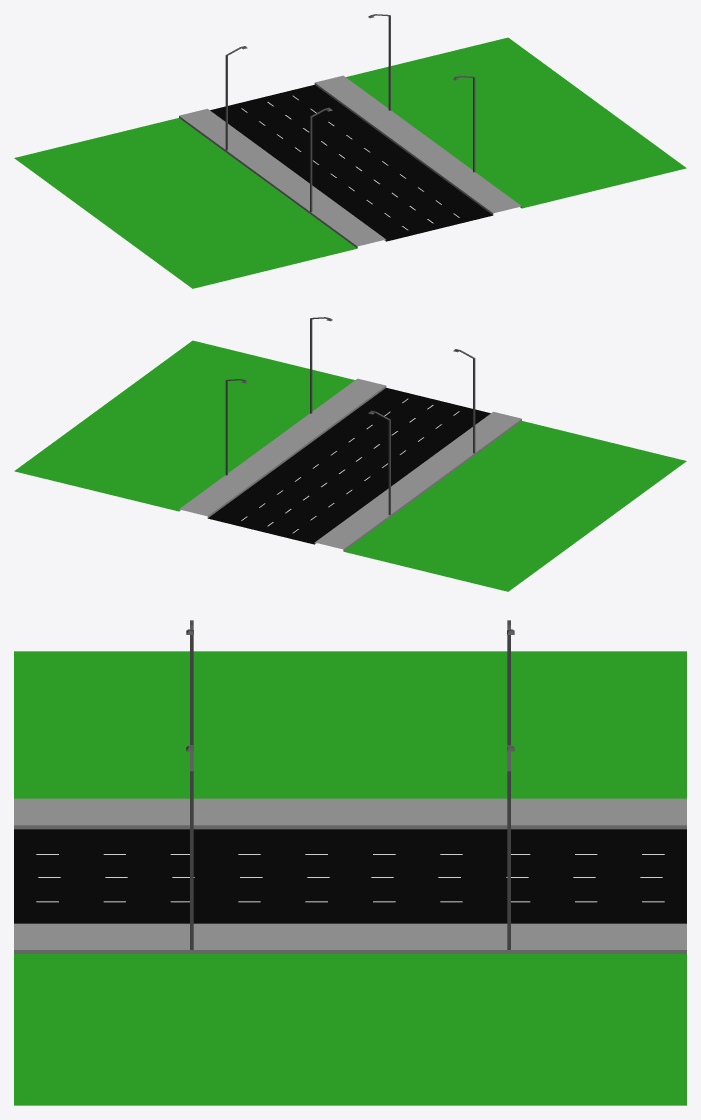
File: DrogaMiasto3.fbx
The picture shows the model from 3 angles, top to bottom: view 1: azimuth 30°, elevation 25°; view 2: azimuth 150°, elevation 25°; view 3: azimuth 270°, elevation 25°; orthographic projection. The views are drawn at different scales.
Parts seen in each view (by area): view 1: DrogaMiasto; view 2: DrogaMiasto; view 3: DrogaMiasto.
Part boxes in pixels (x1,y1,x2,y2): DrogaMiasto: (14,14,686,288); DrogaMiasto: (14,317,686,591); DrogaMiasto: (14,620,686,1105).
Size of the model in its own units: 4790 by 940 by 3000.
